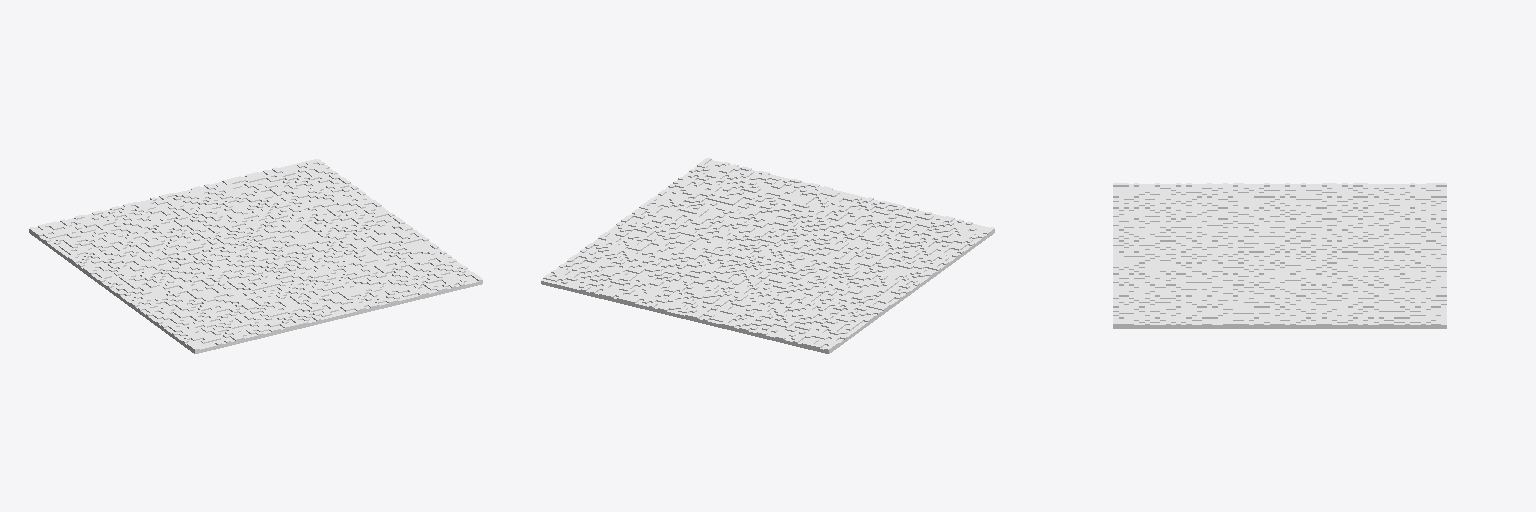
The model's file is RASgræs4.obj.
3 views of the same model, side by side, from view 1: azimuth 30°, elevation 25°; view 2: azimuth 150°, elevation 25°; view 3: azimuth 270°, elevation 25° (orthographic).
Visible parts, largest first — view 1: object 1; view 2: object 1; view 3: object 1.
Boxes of the visible parts, box(x1,y1,x2,y2) form: object 1: box(29, 159, 482, 353); object 1: box(541, 158, 994, 353); object 1: box(1113, 183, 1446, 328).
Bounding box in the file's own units: 25.6 × 0.4 × 25.6.